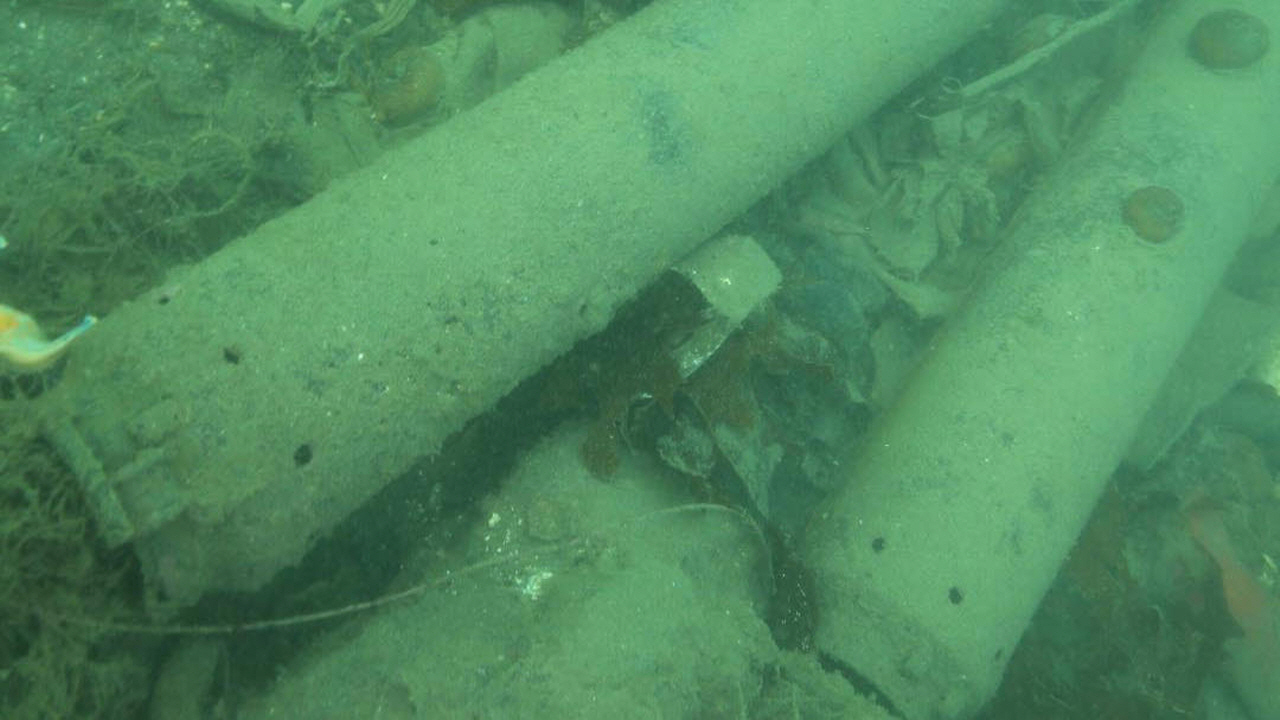eel fish trap: (20, 0, 1029, 626), (800, 0, 1280, 720)
